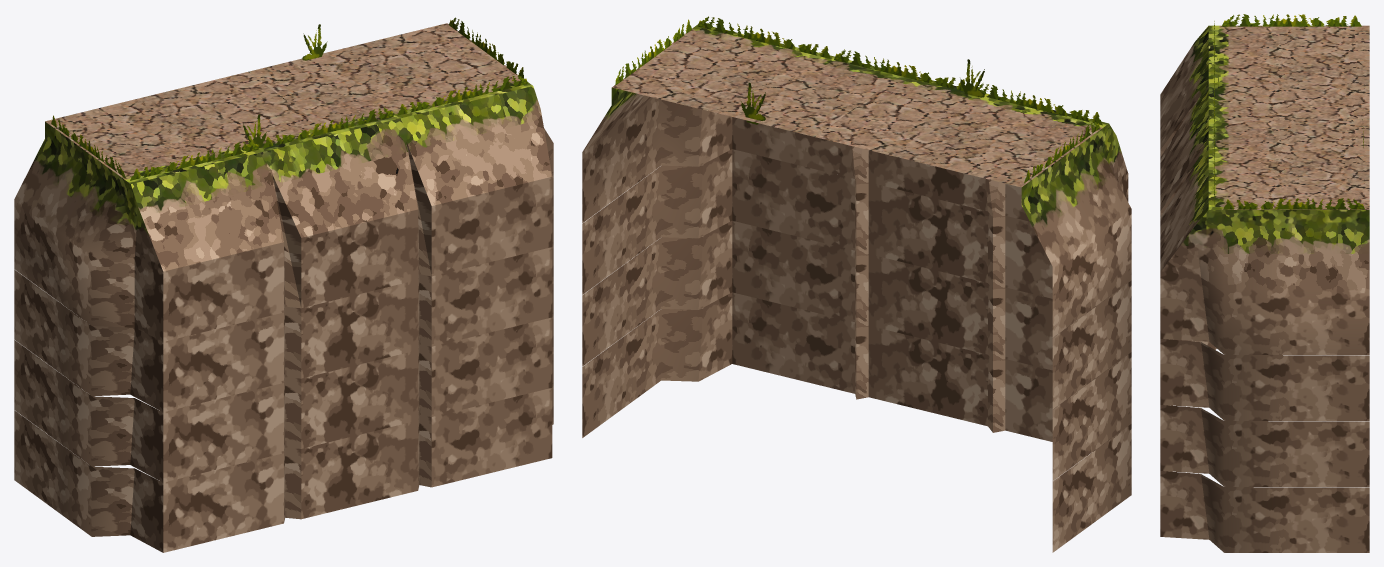
The model's file is terreno_07.FBX.
3 renders of one model, left to right at view 1: azimuth 30°, elevation 25°; view 2: azimuth 150°, elevation 25°; view 3: azimuth 270°, elevation 25°, orthographic. The views are drawn at different scales.
Parts seen in each view (by area): view 1: Terreno003, elevacion002, elevacion, elevacion001; view 2: Terreno003, elevacion001, elevacion002, elevacion; view 3: Terreno003, elevacion002, elevacion001, elevacion.
Boxes of the visible parts, box(x1,y1,x2,y2) form: Terreno003: box(14, 17, 553, 341); elevacion002: box(14, 354, 553, 552); elevacion: box(14, 213, 553, 412); elevacion001: box(14, 284, 553, 482); Terreno003: box(582, 16, 1131, 337); elevacion001: box(582, 220, 1131, 480); elevacion002: box(582, 292, 1131, 552); elevacion: box(582, 149, 1131, 409); Terreno003: box(1160, 14, 1369, 354); elevacion002: box(1160, 339, 1369, 552); elevacion001: box(1160, 405, 1369, 486); elevacion: box(1160, 339, 1369, 420).
Size of the model in its own units: 6.88 by 2.88 by 5.53.
Materials: 1 (1 with a texture image).
